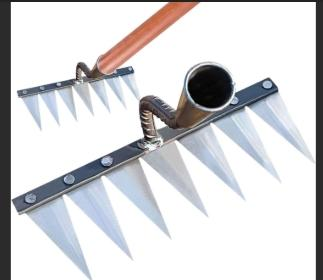RATEAU: (0, 1, 322, 280)
